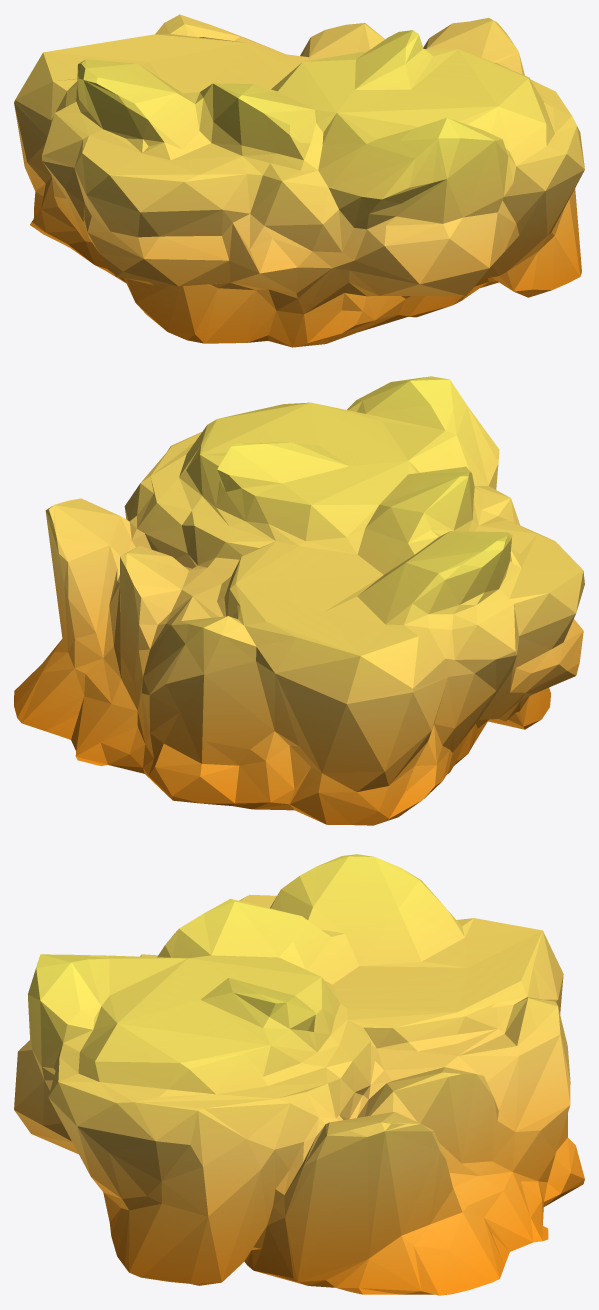
Rendered from SM_Rock_3.fbx.
The picture shows the model from 3 angles, top to bottom: view 1: azimuth 30°, elevation 25°; view 2: azimuth 150°, elevation 25°; view 3: azimuth 270°, elevation 25°; orthographic projection. The views are drawn at different scales.
Parts seen in each view (by area): view 1: Rock_3; view 2: Rock_3; view 3: Rock_3.
Boxes of the visible parts, x1,y1,x2,y2 form: Rock_3: (14, 14, 584, 347); Rock_3: (14, 376, 584, 825); Rock_3: (14, 854, 584, 1295).
Bounding box in the file's own units: 816 × 371 × 831.
